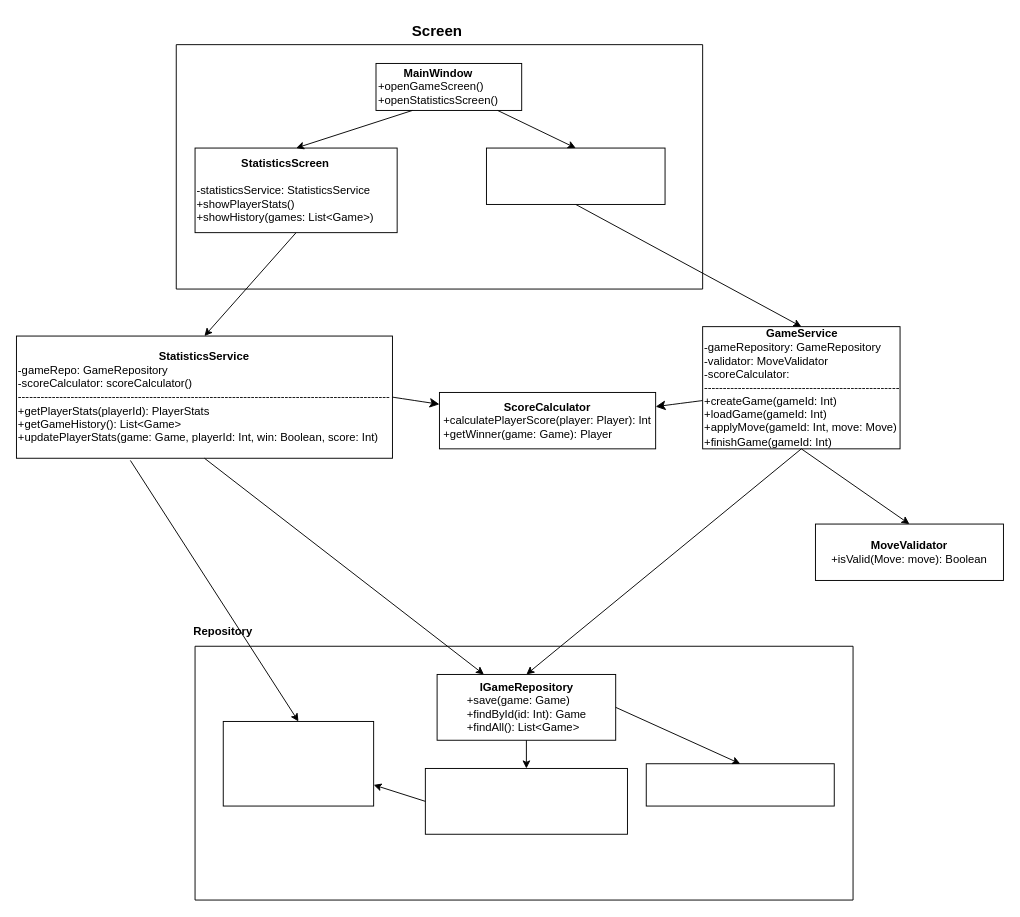
The diagram is 1020 pixels wide and 917 high, and some of its shapes have lost their labels. Each missing label, with the centre of its shape:
GameScreen -gameService: GameService +showGame(game:Game) +enterMove(move: move): point (575, 175)
InMemoryGameRepo +allPlayersStats(): List<PlayerStats>: point (739, 784)
PlayerStats +gamesPlayed: Int +wins: Int +averageScore: Double +bestScore: Int: point (298, 763)
StatisticsRepo +allPlayersStats(): List<PlayerStats>: point (525, 801)
